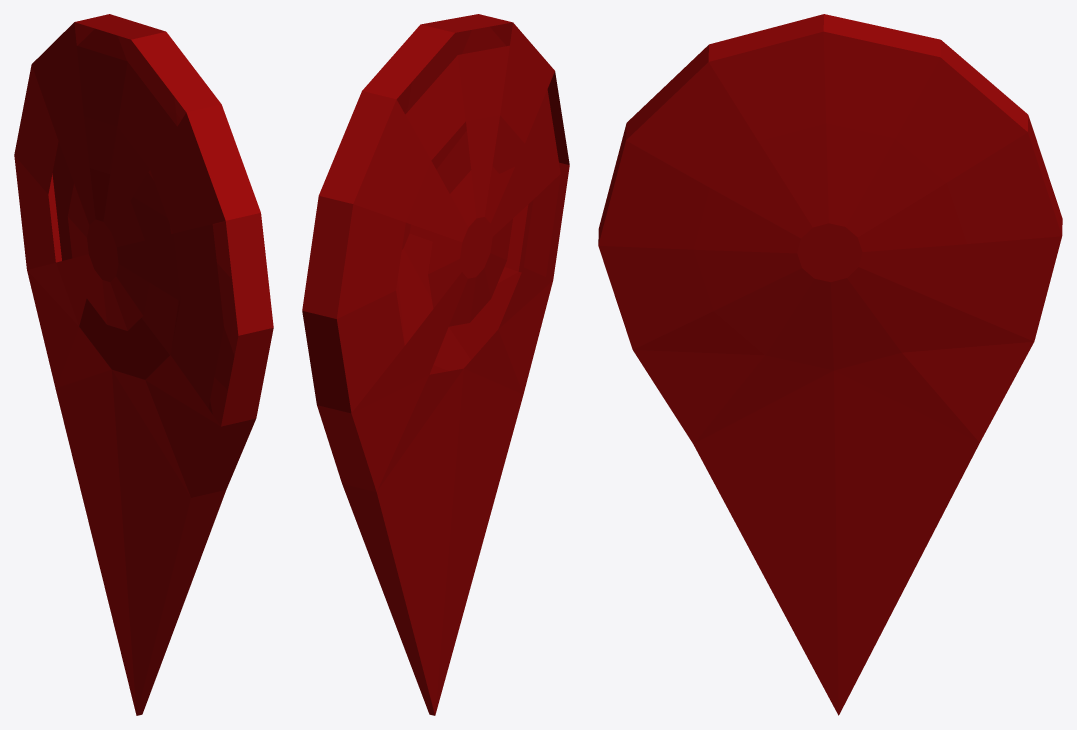
3 views of the same model, side by side, from view 1: azimuth 30°, elevation 25°; view 2: azimuth 150°, elevation 25°; view 3: azimuth 270°, elevation 25° (orthographic).
Visible parts, largest first — view 1: defaultobject (×2); view 2: defaultobject (×2); view 3: defaultobject (×2).
Part boxes in pixels (left/top/right/bottom): defaultobject (×2): left=14, top=14, right=273, bottom=715; defaultobject (×2): left=302, top=14, right=569, bottom=715; defaultobject (×2): left=598, top=14, right=1062, bottom=715.
Bounding box in the file's own units: 0.2828 × 2.24 × 1.36.
